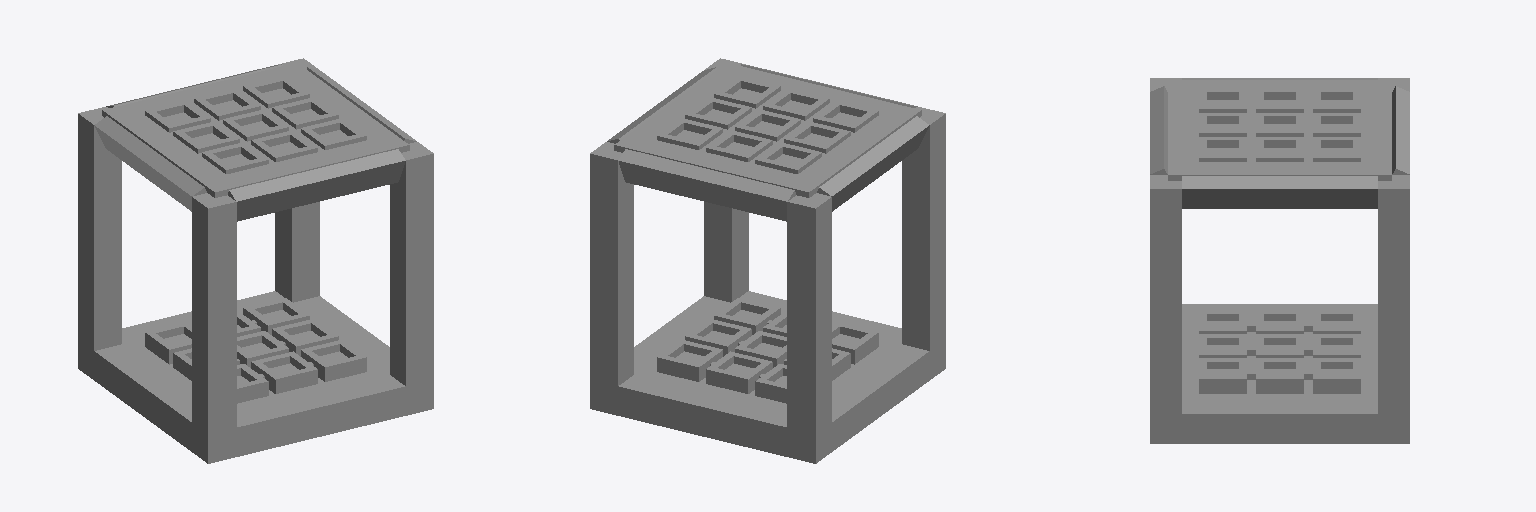
File: sintezator.obj
3 views of the same model, side by side, from view 1: azimuth 30°, elevation 25°; view 2: azimuth 150°, elevation 25°; view 3: azimuth 270°, elevation 25° (orthographic).
Parts seen in each view (by area): view 1: cube, cube.003, cube.002, cube.000, cube.114, cube.001, cube.116, cube.006, cube.007, cube.005, cube.004, cube.117 (+3 smaller); view 2: cube, cube.000, cube.001, cube.003, cube.115, cube.002, cube.116, cube.004, cube.006, cube.005, cube.007, cube.117 (+3 smaller); view 3: cube, cube.002, cube.001, cube.117, cube.005, cube.007, cube.004, cube.006, cube.114, cube.115, cube.094, cube.099 (+3 smaller).
Boxes of the visible parts, <box> form: cube: <box>78,291,433,463</box>; cube.003: <box>192,193,236,434</box>; cube.002: <box>390,142,433,385</box>; cube.000: <box>78,107,121,350</box>; cube.114: <box>228,149,405,221</box>; cube.001: <box>275,58,319,302</box>; cube.116: <box>94,116,206,211</box>; cube.006: <box>119,116,242,197</box>; cube.007: <box>228,133,409,186</box>; cube.005: <box>269,63,392,138</box>; cube.004: <box>102,70,279,123</box>; cube.117: <box>307,67,416,143</box>; cube: <box>590,291,945,463</box>; cube.000: <box>787,193,831,434</box>; cube.001: <box>590,142,633,385</box>; cube.003: <box>902,107,945,350</box>; cube.115: <box>618,149,795,221</box>; cube.002: <box>704,58,748,302</box>; cube.116: <box>817,116,929,211</box>; cube.004: <box>643,141,824,197</box>; cube.006: <box>799,103,921,182</box>; cube.005: <box>614,75,731,152</box>; cube.007: <box>711,63,892,112</box>; cube.117: <box>607,67,716,143</box>; cube: <box>1150,304,1409,443</box>; cube.002: <box>1150,175,1181,413</box>; cube.001: <box>1378,175,1409,413</box>; cube.117: <box>1182,176,1377,208</box>; cube.005: <box>1200,161,1391,180</box>; cube.007: <box>1168,94,1199,180</box>; cube.004: <box>1360,80,1391,160</box>; cube.006: <box>1168,80,1359,93</box>; cube.114: <box>1150,86,1167,174</box>; cube.115: <box>1392,86,1409,174</box>; cube.094: <box>1256,376,1303,393</box>; cube.099: <box>1313,376,1360,393</box>.
Bounding box in the file's own units: 1 × 1.12 × 1.